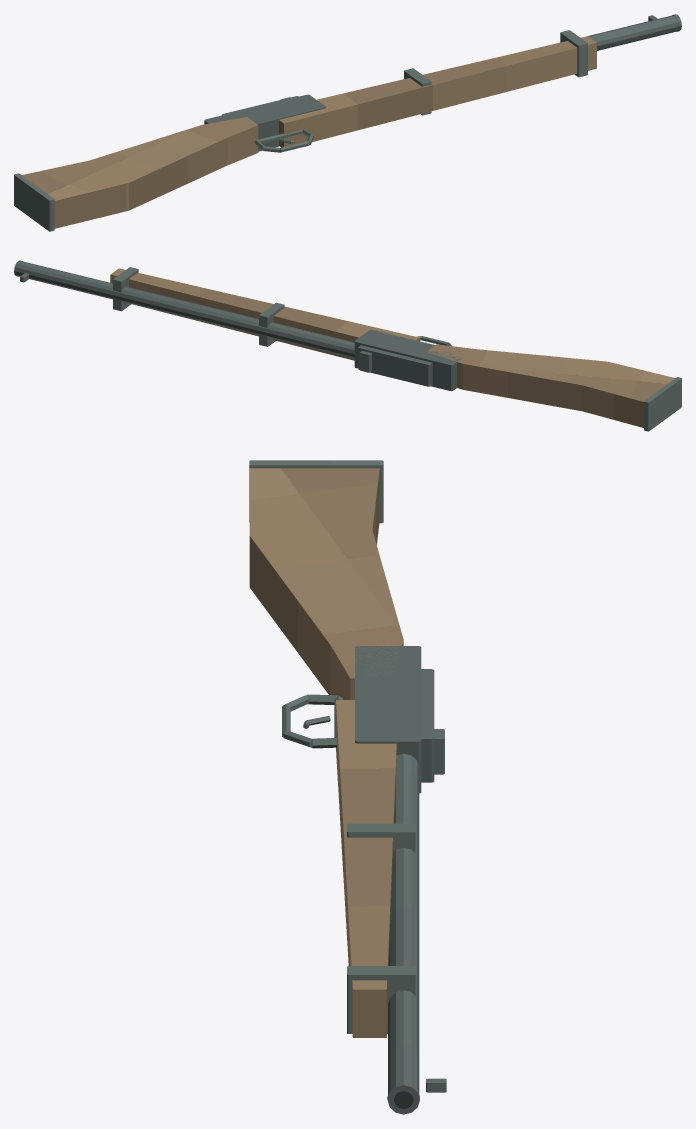
File: weapon-garand.glb
The picture shows the model from 3 angles, top to bottom: view 1: azimuth 30°, elevation 25°; view 2: azimuth 150°, elevation 25°; view 3: azimuth 270°, elevation 25°; orthographic projection. The views are drawn at different scales.
Parts seen in each view (by area): view 1: weapon-garand/shaped-solid-butt, weapon-garand/tapered-full-depth-forend, weapon-garand/central-receiver, weapon-garand/long-barrel, weapon-garand/butt-end-plate, weapon-garand/stock-band-1; view 2: weapon-garand/shaped-solid-butt, weapon-garand/long-barrel, weapon-garand/tapered-full-depth-forend, weapon-garand/central-receiver, weapon-garand/exposed-receiver-top, weapon-garand/butt-end-plate, weapon-garand/stock-band-1, weapon-garand/stock-band-0; view 3: weapon-garand/shaped-solid-butt, weapon-garand/tapered-full-depth-forend, weapon-garand/long-barrel, weapon-garand/central-receiver, weapon-garand/stock-band-1, weapon-garand/exposed-receiver-top, weapon-garand/butt-end-plate, weapon-garand/stock-band-0.
Boxes of the visible parts, x1,y1,x2,y2 form: weapon-garand/shaped-solid-butt: [22, 117, 258, 228]; weapon-garand/tapered-full-depth-forend: [279, 36, 596, 147]; weapon-garand/central-receiver: [204, 94, 325, 151]; weapon-garand/long-barrel: [588, 15, 678, 50]; weapon-garand/butt-end-plate: [14, 173, 54, 231]; weapon-garand/stock-band-1: [560, 30, 587, 77]; weapon-garand/shaped-solid-butt: [427, 344, 675, 427]; weapon-garand/long-barrel: [17, 261, 354, 358]; weapon-garand/tapered-full-depth-forend: [110, 268, 419, 360]; weapon-garand/central-receiver: [354, 329, 462, 391]; weapon-garand/exposed-receiver-top: [358, 345, 432, 386]; weapon-garand/butt-end-plate: [644, 377, 681, 431]; weapon-garand/stock-band-1: [113, 267, 138, 311]; weapon-garand/stock-band-0: [259, 302, 284, 346]; weapon-garand/shaped-solid-butt: [249, 468, 403, 699]; weapon-garand/tapered-full-depth-forend: [336, 700, 396, 1037]; weapon-garand/long-barrel: [388, 753, 419, 1094]; weapon-garand/central-receiver: [355, 646, 421, 793]; weapon-garand/stock-band-1: [347, 966, 415, 1033]; weapon-garand/exposed-receiver-top: [421, 669, 434, 782]; weapon-garand/butt-end-plate: [249, 460, 383, 523]; weapon-garand/stock-band-0: [347, 823, 415, 852].
Bounding box in the file's own units: 1.11 × 0.05 × 0.1515.
3 materials, 3 textured.
